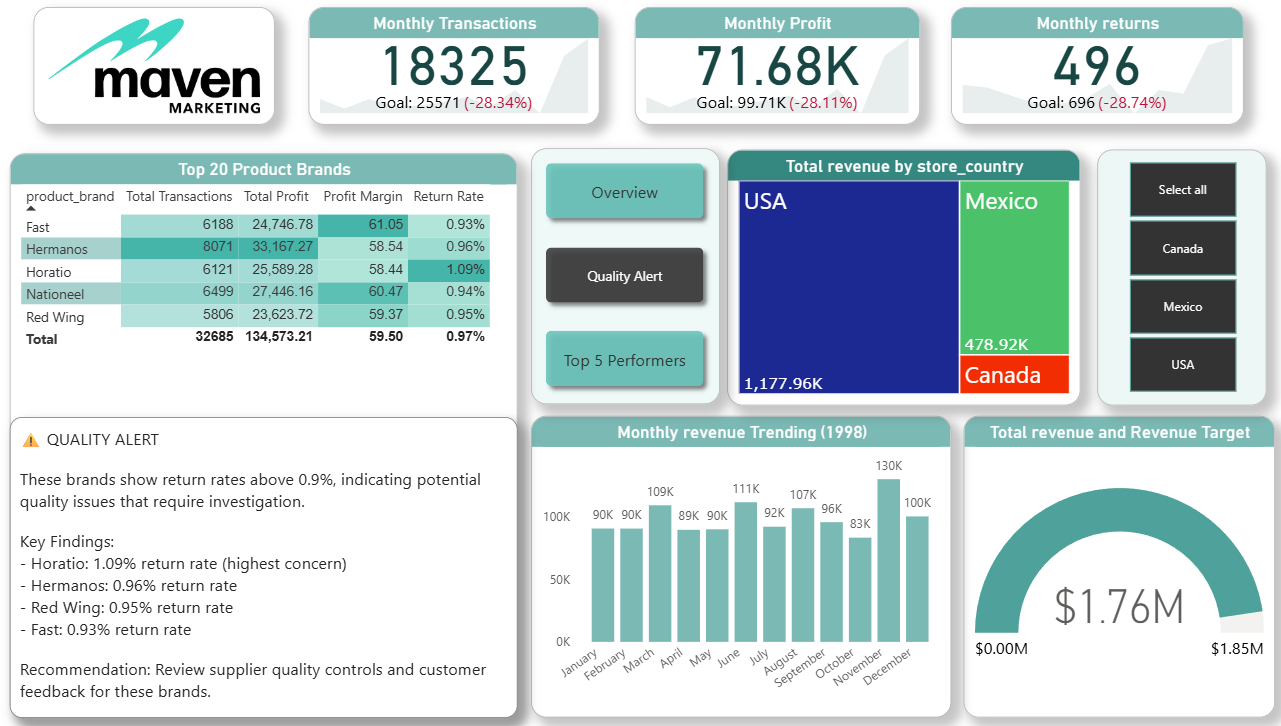

The page's visual inventory and layout, read from the dashboard file:
{"tool":"powerbi","page":{"name":"Main dashboard","canvas":[1280,720],"ordinal":0},"visuals":[{"type":"pivotTable","title":"Top 20 Product Brands","fields":{"Rows":["Products.product_brand"],"Values":["Measure table.Total Transactions","Measure table.Total profit","Measure table.Profit Margin","Measure table.Return Rate"]},"box":[28.2,157.2,497.1,553.5],"z":0},{"type":"kpi","title":"Monthly Transactions ","fields":{"TrendLine":["Calendar.date.Variation.Date Hierarchy.Month"],"Goal":["Measure table.Last Month Transactions"],"Indicator":["Measure table.Current Month Transactions"]},"box":[320.4,14.7,284.9,114.9],"z":1000},{"type":"kpi","title":"Monthly returns","fields":{"TrendLine":["Calendar.date.Variation.Date Hierarchy.Month"],"Goal":["Measure table.Last Month Returns"],"Indicator":["Measure table.Current Month Returns"]},"box":[948.9,14.7,286.1,114.9],"z":2000},{"type":"clusteredColumnChart","title":"Monthly revenue Trending (1998)","fields":{"Category":["Calendar.WeekStart.Variation.Date Hierarchy.Year","Calendar.WeekStart.Variation.Date Hierarchy.Quarter","Calendar.WeekStart.Variation.Date Hierarchy.Month","Calendar.WeekStart.Variation.Date Hierarchy.Day"],"Y":["Measure table.Total revenue"]},"box":[537.5,415,411.2,295],"z":3000},{"type":"gauge","fields":{"Y":["Measure table.Total revenue"],"MaxValue":["Measure table.Revenue Target"]},"box":[961.2,415,305,295],"z":4000},{"type":"image","box":[51.4,14.7,236,114.9],"z":5000},{"type":"treemap","fields":{"Group":["Stores.store_country","Stores.store_state","Stores.store_city"],"Values":["Measure table.Total revenue"]},"box":[730,154.3,345.7,250],"z":6000},{"type":"slicer","fields":{"Values":["Stores.store_country"]},"box":[1091.4,154.3,165.7,250],"z":7000},{"type":"kpi","title":"Monthly Profit","fields":{"TrendLine":["Calendar.date.Variation.Date Hierarchy.Month"],"Indicator":["Measure table.Current Month Profit"],"Goal":["Measure table.Last Month Profit"]},"box":[639.5,14.7,278.8,114.9],"z":8000},{"type":"bookmarkNavigator","box":[538,152.9,184.6,250.7],"z":11001}]}

Visuals, with their boxes in screenshot pixels (x1, y1, x2, y2), scaled from the page's 1280x720 canvas onto the 1281x726 screenshot:
"Top 20 Product Brands" pivotTable: left=28, top=159, right=526, bottom=717
"Monthly Transactions " kpi: left=321, top=15, right=606, bottom=131
"Monthly returns" kpi: left=950, top=15, right=1236, bottom=131
"Monthly revenue Trending (1998)" clusteredColumnChart: left=538, top=418, right=949, bottom=716
gauge - Measure table.Total revenue x Measure table.Revenue Target: left=962, top=418, right=1267, bottom=716
image: left=51, top=15, right=288, bottom=131
treemap - Stores.store_country x Stores.store_state: left=731, top=156, right=1077, bottom=408
slicer - Stores.store_country: left=1092, top=156, right=1258, bottom=408
"Monthly Profit" kpi: left=640, top=15, right=919, bottom=131
bookmarkNavigator: left=538, top=154, right=723, bottom=407
